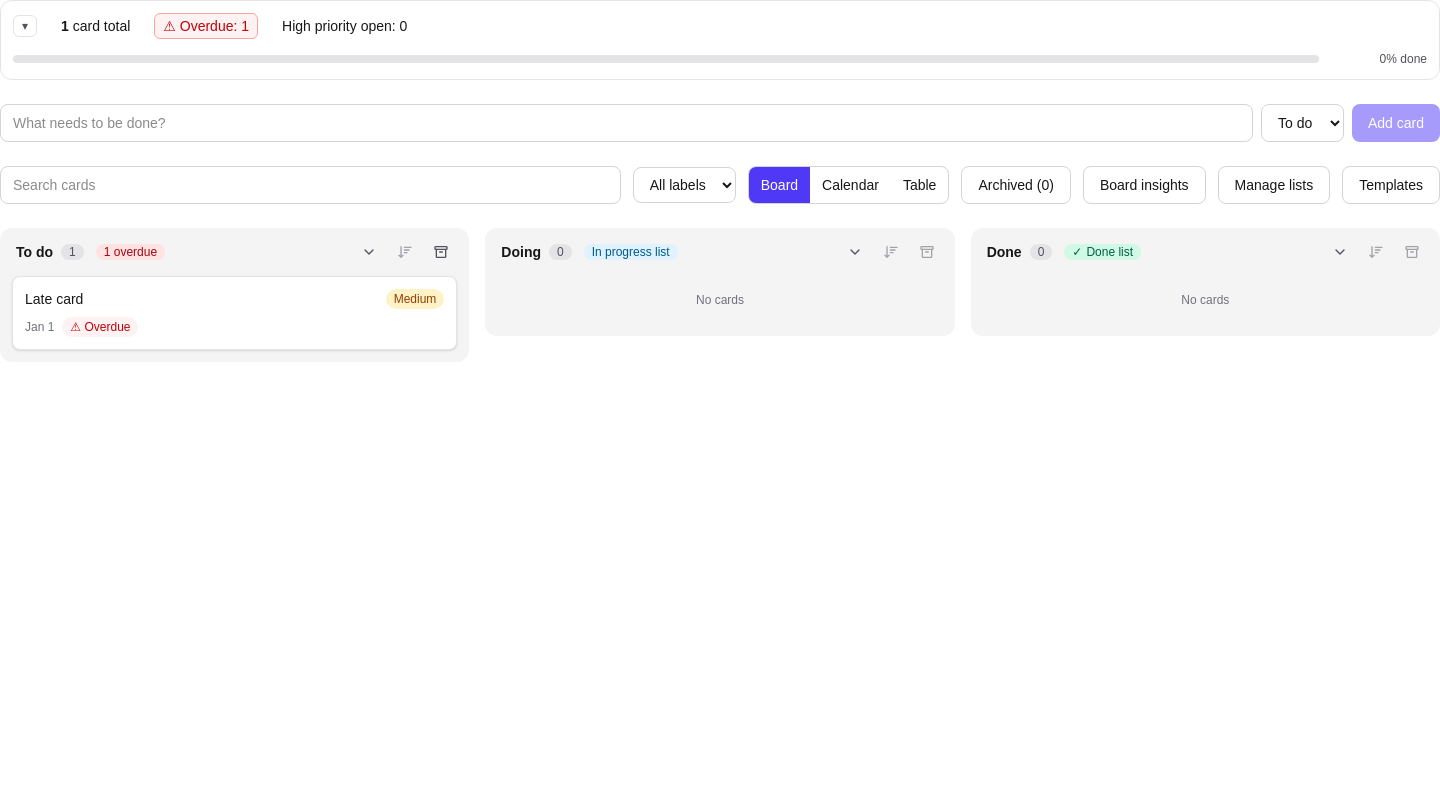
Scenario: <Board /> insights › closes with the Close button and returns focus
Click the button "Board insights" at (1144, 185), box [1083,166,1206,204]
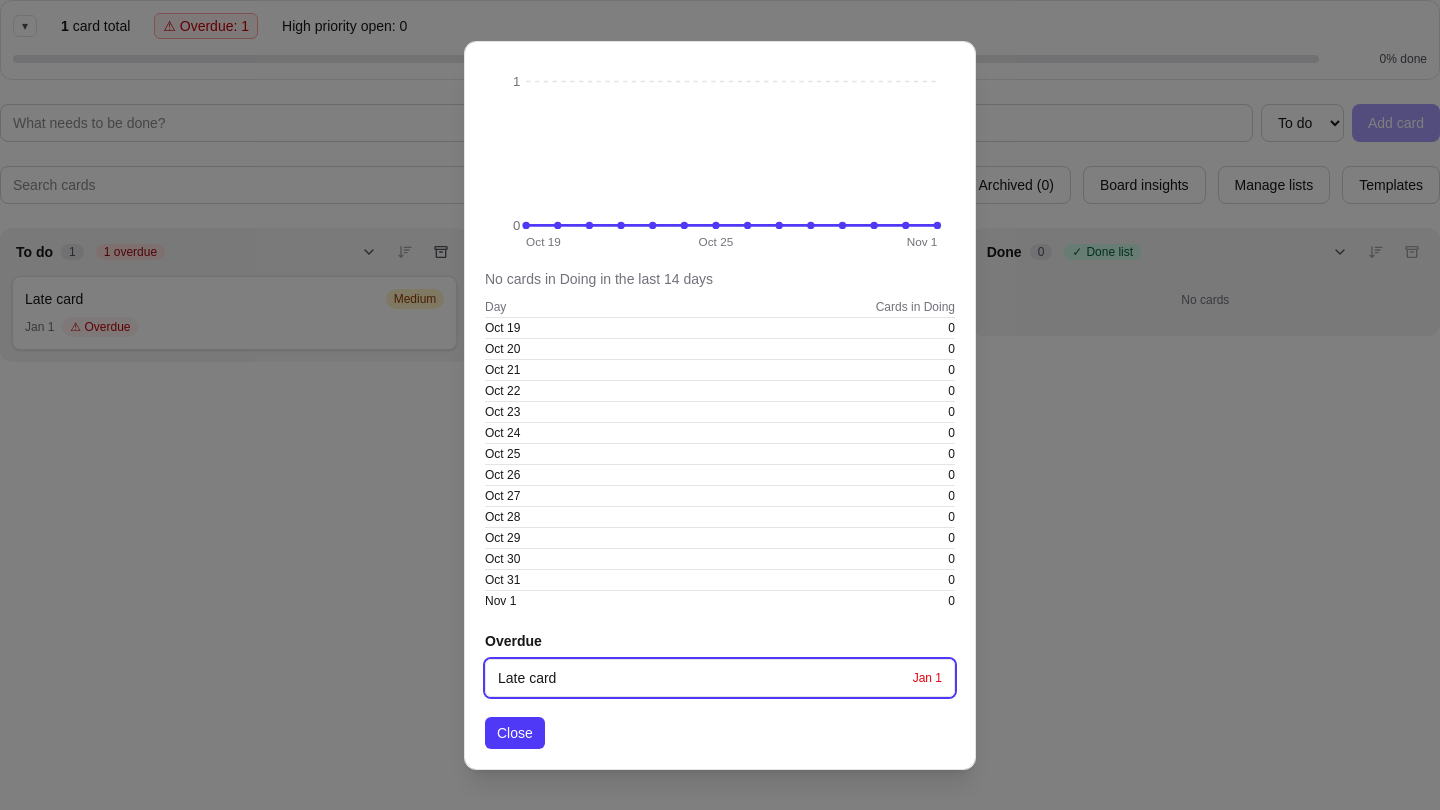
Click the button "Close" at (515, 733), box [485,717,545,749]
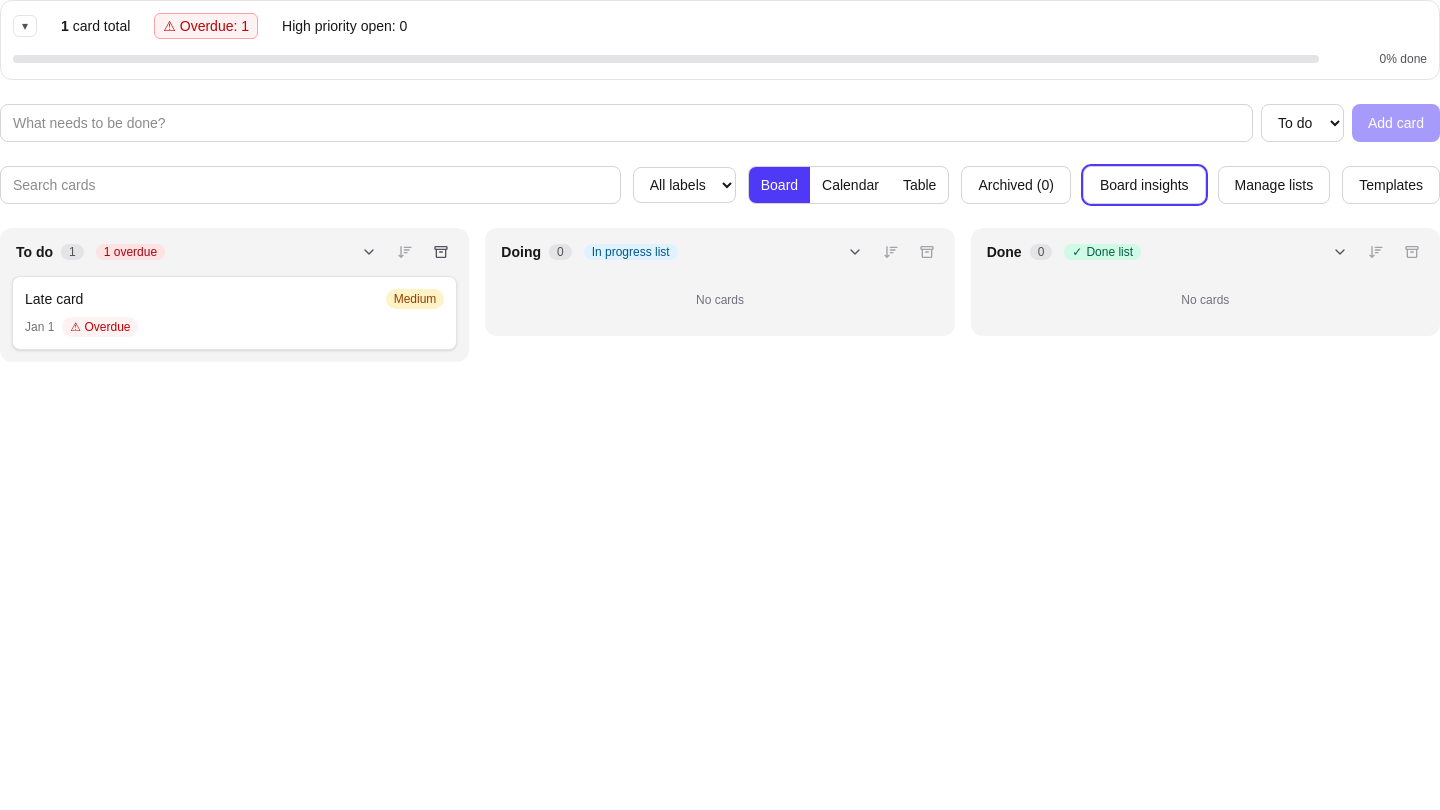
Expected: the dialog is gone
